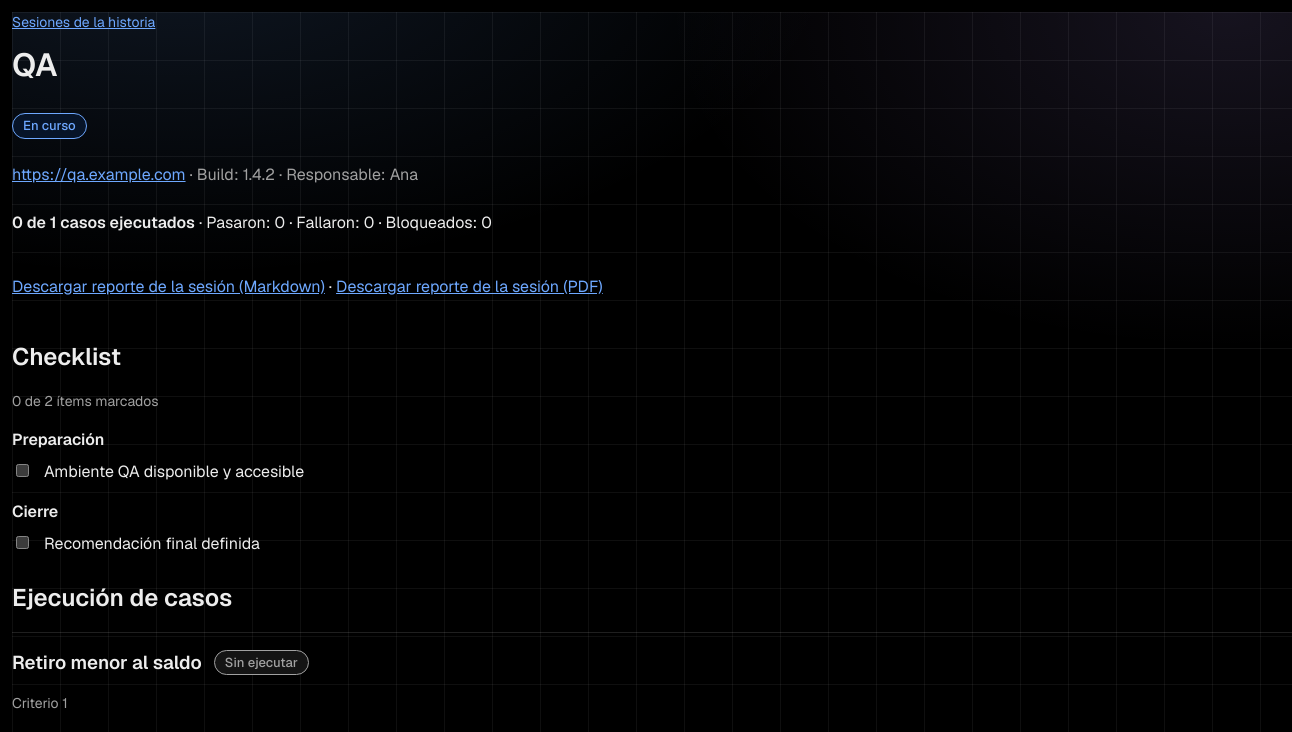
it: SessionDetailPage › marca ítems del checklist
Click the checkbox labelled "Ambiente QA disponible y accesible".
click(22, 470)  # box [16,464,29,476]
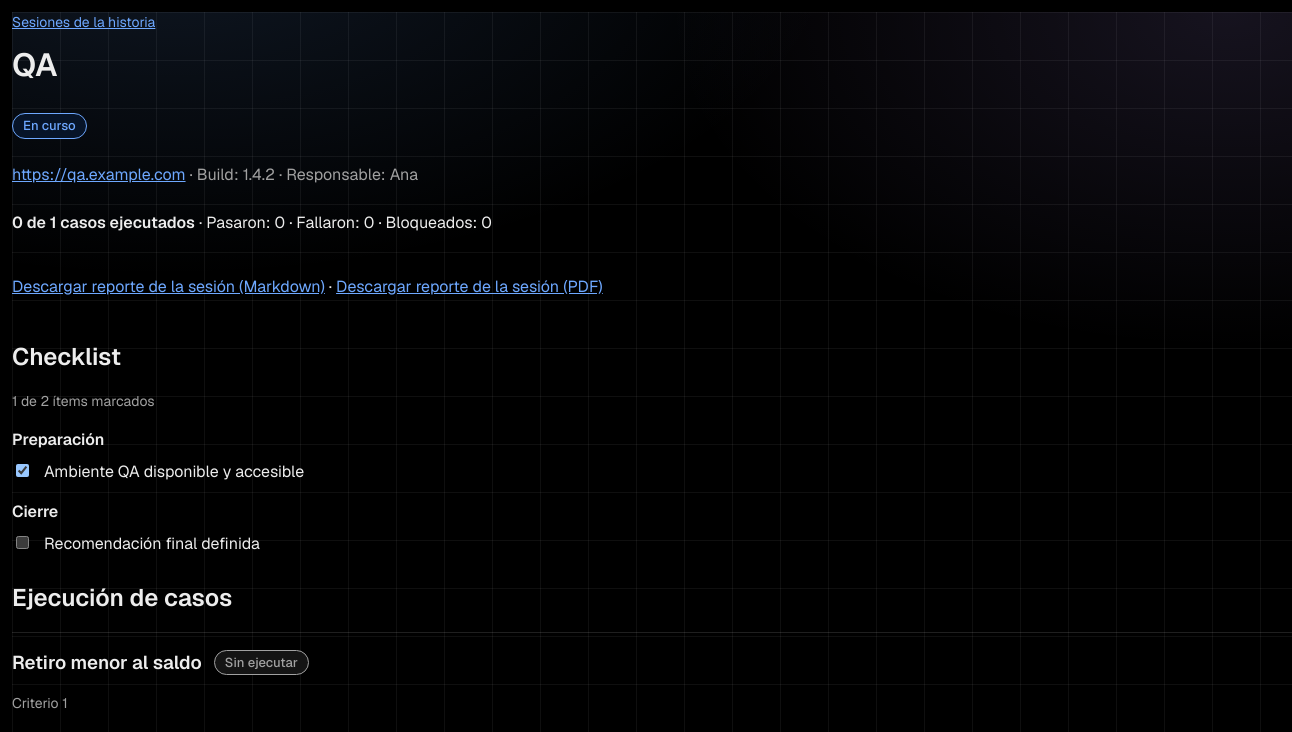
Check: the text "1 de 2 ítems marcados" is shown, box [12,392,155,410]
